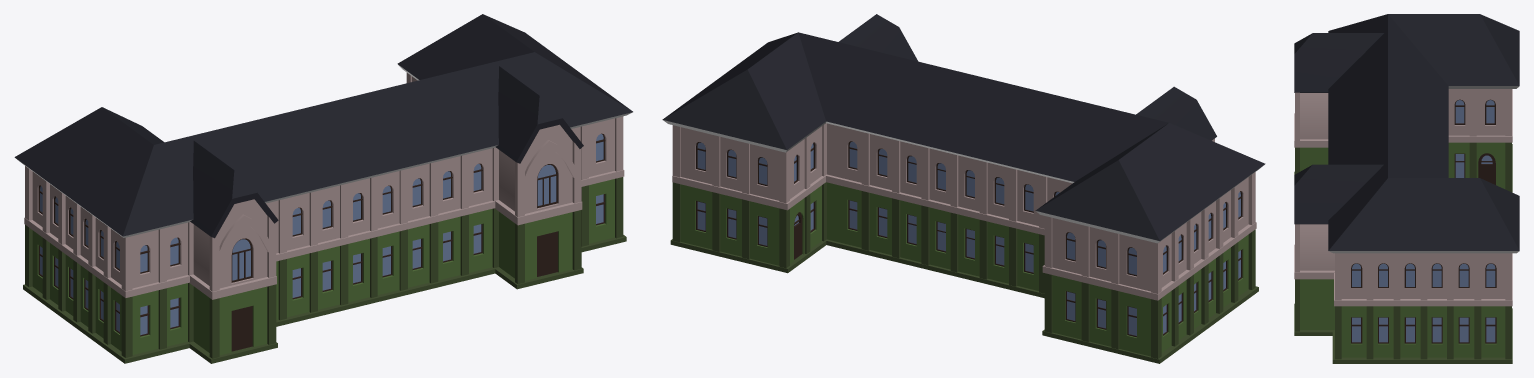
File: GovernmentBuilding_08.fbx
3 renders of one model, left to right at view 1: azimuth 30°, elevation 25°; view 2: azimuth 150°, elevation 25°; view 3: azimuth 270°, elevation 25°, orthographic. The views are drawn at different scales.
Visible parts, largest first — view 1: GovernmentBuilding_08; view 2: GovernmentBuilding_08; view 3: GovernmentBuilding_08.
Part boxes in pixels (left/top/right/bottom): GovernmentBuilding_08: left=14, top=14, right=632, bottom=363; GovernmentBuilding_08: left=662, top=14, right=1265, bottom=363; GovernmentBuilding_08: left=1294, top=14, right=1519, bottom=363.
Size of the model in its own units: 41.66 by 14.11 by 18.04.
